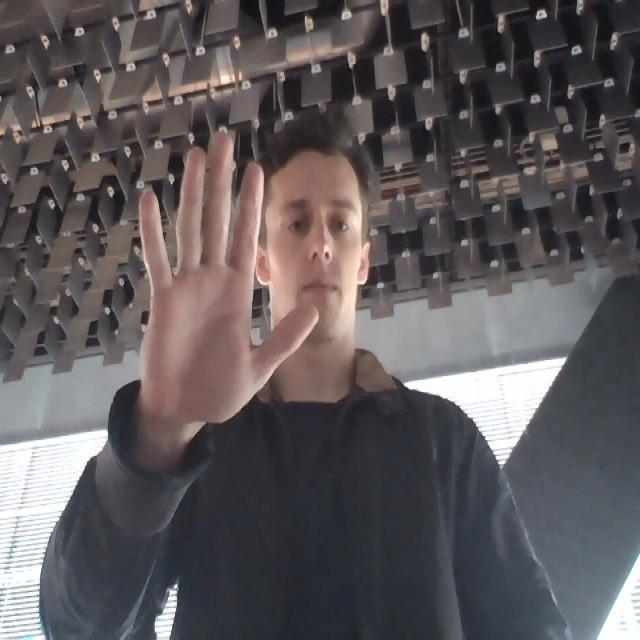backward: (125, 125, 322, 426)
